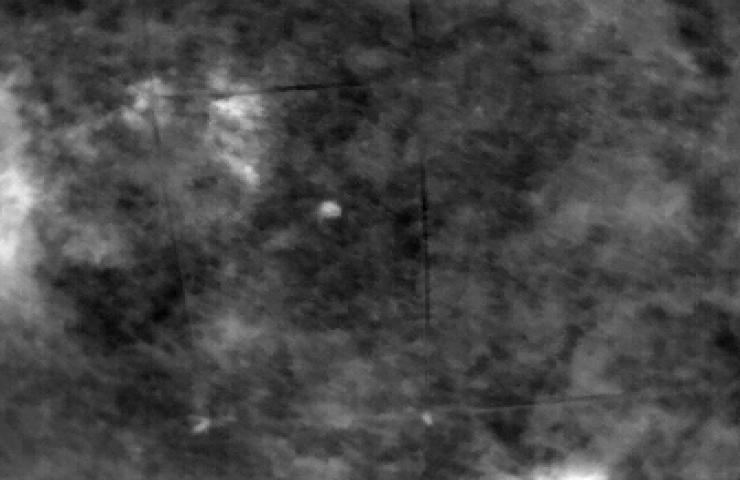landmines: (313, 196, 351, 224)
